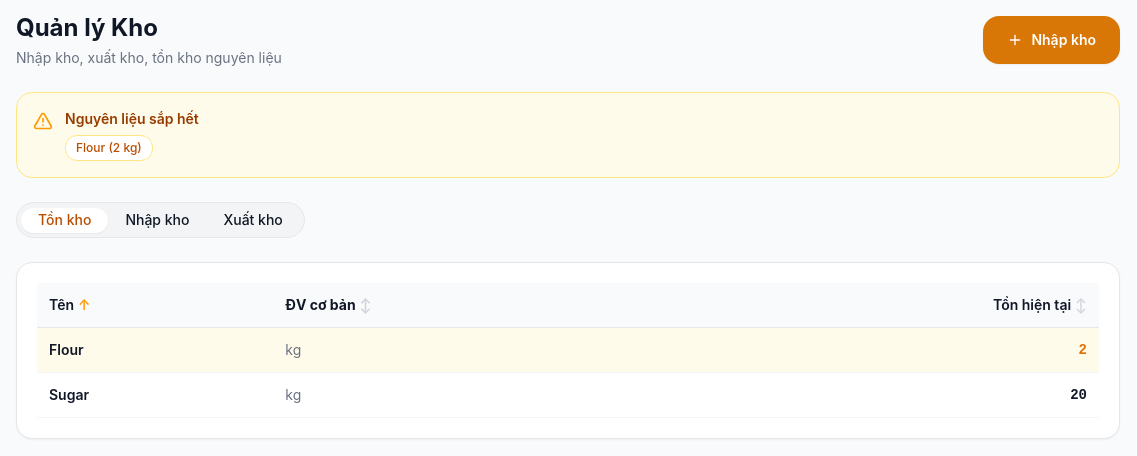
it: InventoryClient › shows stock-in and stock-out history tabs
Click the tab "Nhập kho".
click(157, 220)  # box [108, 208, 206, 232]
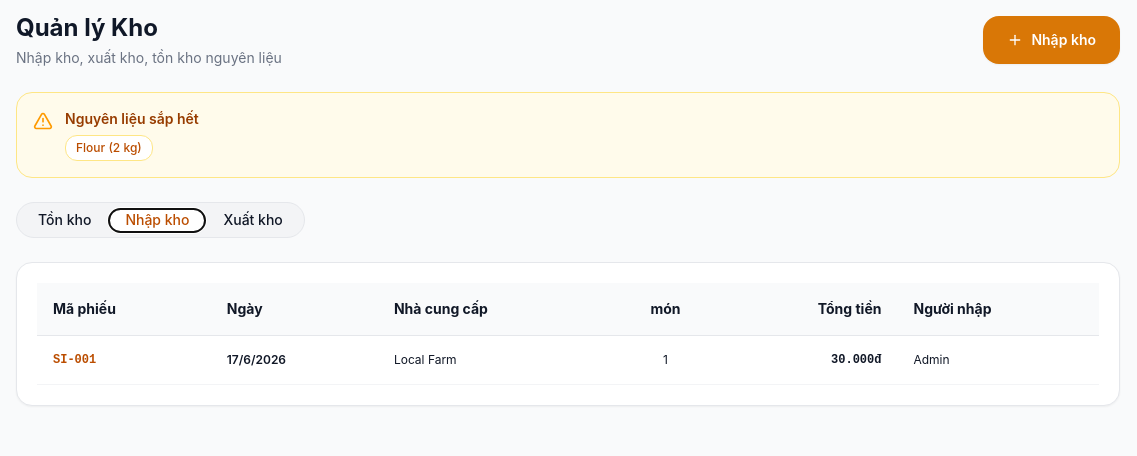
Expected: the text "SI-001" is shown, [37, 336, 211, 384]
Expected: the text "Local Farm" is shown, [378, 336, 609, 384]
Click the tab "Xuất kho".
click(253, 220)  # box [206, 208, 300, 232]
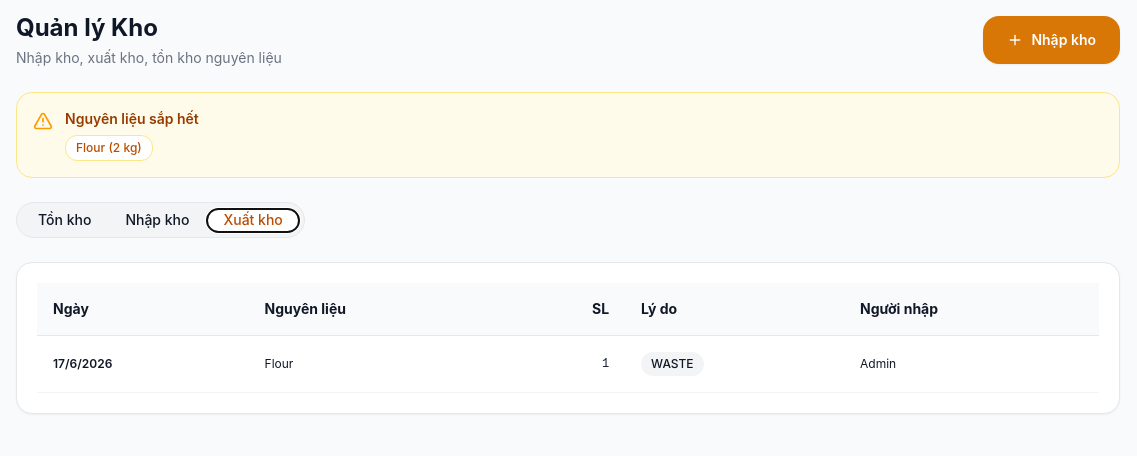
Expected: the text "WASTE" is shown, [641, 352, 704, 376]
